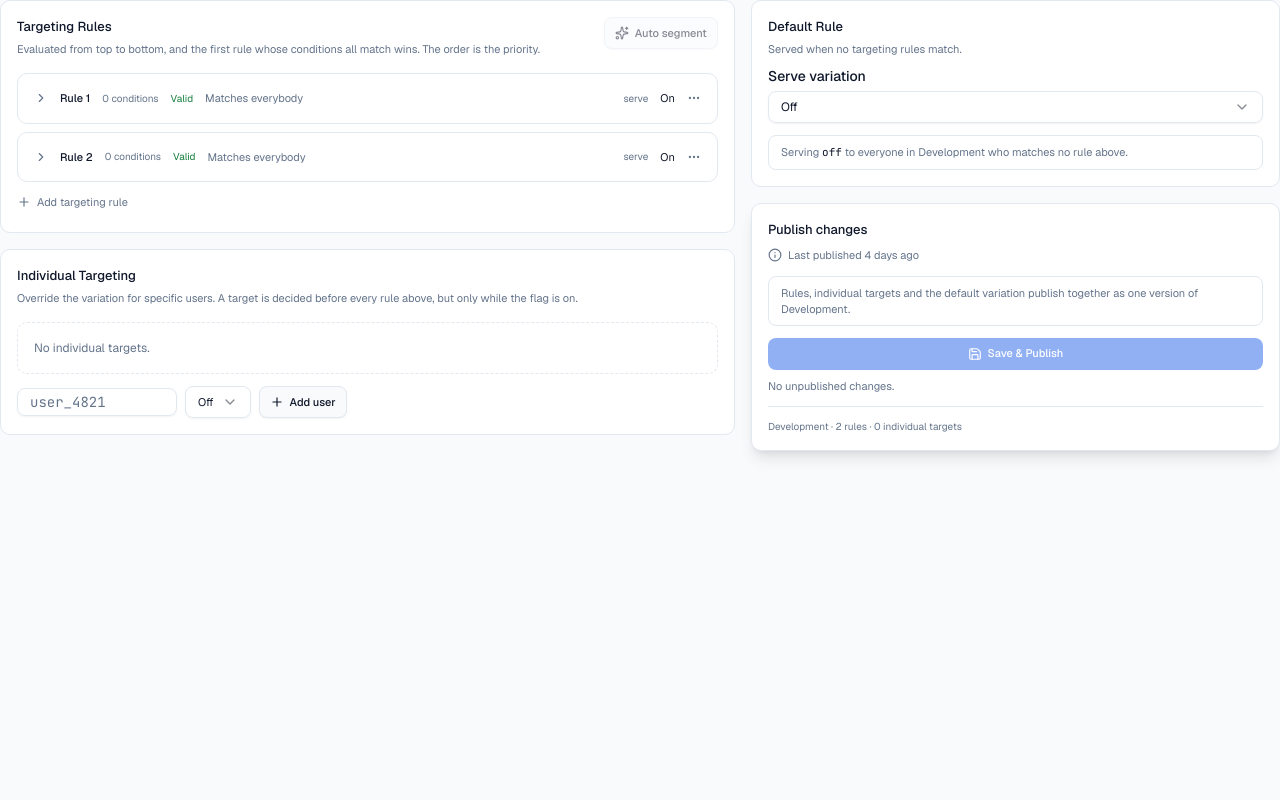
it: expanding a rule › closes the rule that was open, so one editor shows at a time
Click the button "Rule 1" at (131, 98), box [30, 86, 679, 110]
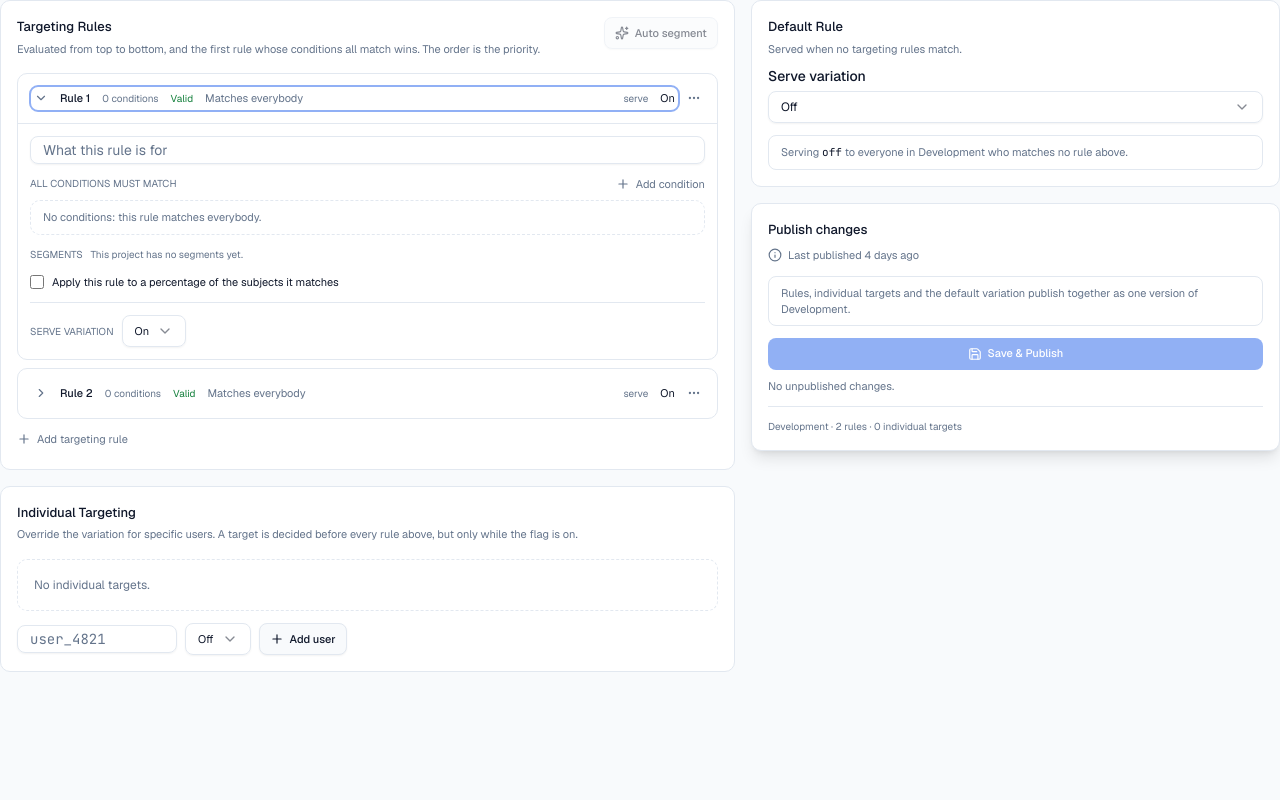
Click the button "Rule 2" at (134, 393), box [30, 381, 679, 406]
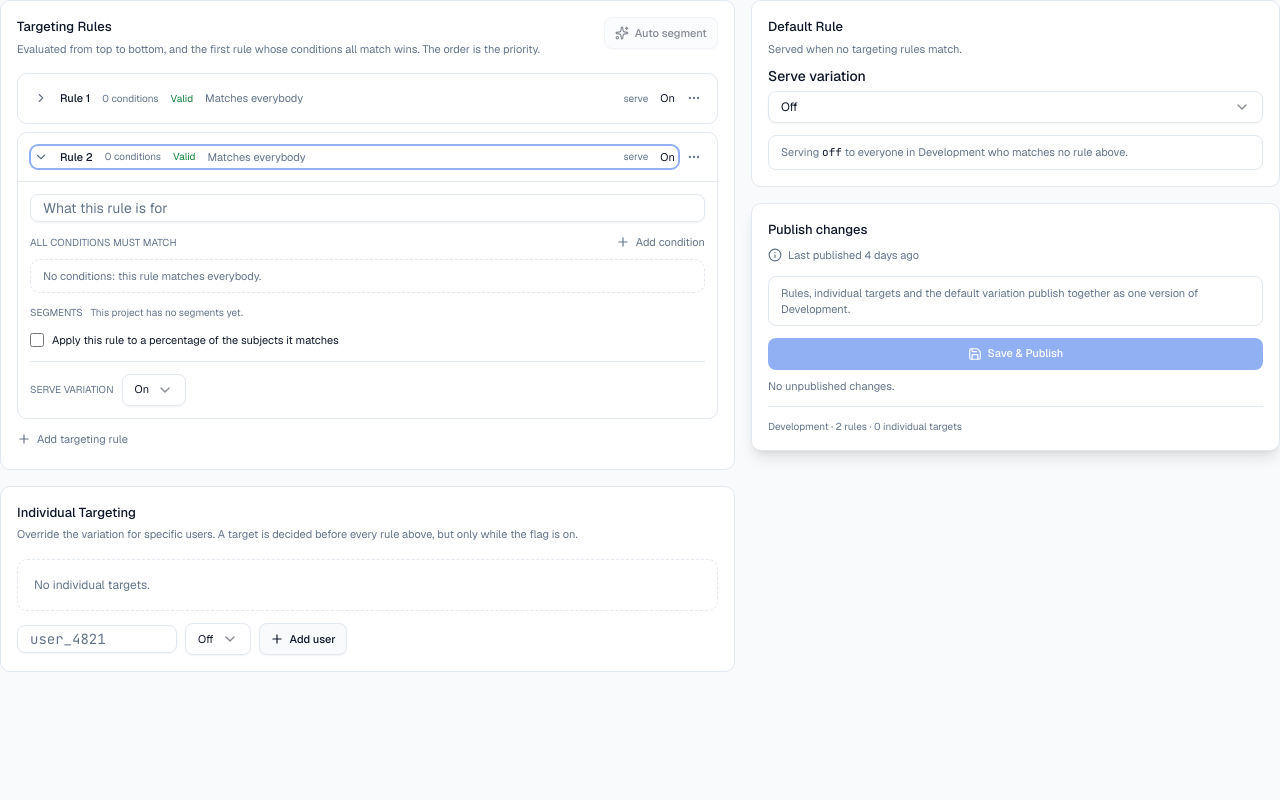
Expected: the field named "Description for rule 2" is shown, [30, 194, 705, 222]
